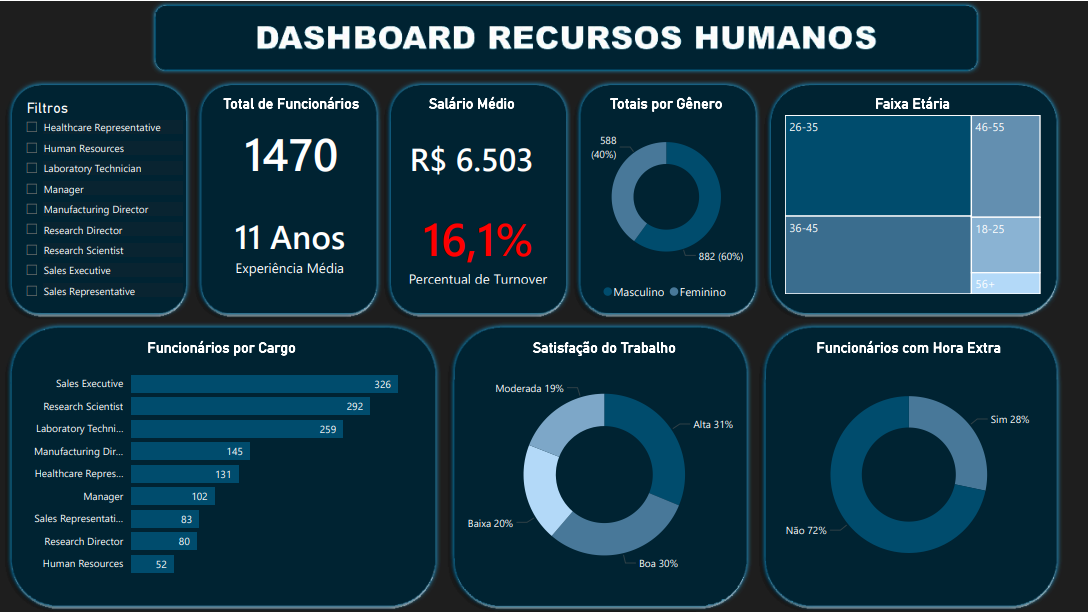

The page's visual inventory and layout, read from the dashboard file:
{"tool":"powerbi","page":{"name":"Page 1","canvas":[1280,720],"ordinal":0},"visuals":[{"type":"cardVisual","title":"Total de Funcionários","fields":{"Data":["Medidas.totalFuncionarios"]},"box":[241,110,203,113],"z":0},{"type":"cardVisual","title":"Experiência Média","fields":{"Data":["Medidas.experienciaMedia"]},"box":[241,224,200,125],"z":1000},{"type":"cardVisual","title":"Salário Médio","fields":{"Data":["Medidas.salarioMedio"]},"box":[444.4,110,221.1,125.6],"z":2000},{"type":"cardVisual","title":"Percentual de Turnover","fields":{"Data":["Medidas.porcentagemExFuncionarios"]},"box":[444,228,237,121],"z":3000},{"type":"clusteredBarChart","title":"Funcionários por Cargo","fields":{"Y":["Medidas.totalFuncionarios"],"Category":["DadosRH.JobRole"]},"box":[21,397,479,291],"z":4000},{"type":"donutChart","title":"Satisfação do Trabalho","fields":{"Category":["DadosRH.JobSatisfaction"],"Y":["CountNonNull(DadosRH.JobSatisfaction)"]},"box":[539,397,344,300],"z":5000},{"type":"donutChart","title":"Funcionários com Hora Extra","fields":{"Y":["Medidas.horaExtraSim","Medidas.horaExtraNao"]},"box":[910,397,319,300],"z":6000},{"type":"treemap","title":"Faixa Etária","fields":{"Values":["CountNonNull(DadosRH.FaixaEtaria)"],"Group":["DadosRH.FaixaEtaria"]},"box":[919,110,310,239],"z":7000},{"type":"donutChart","title":"Totais por Gênero","fields":{"Y":["Medidas.totalMasculino","Medidas.totalFeminino"]},"box":[673,110,222,250],"z":8000},{"type":"slicer","fields":{"Values":["DadosRH.JobRole"]},"box":[18,110,202,250],"z":9000}]}

Visuals, with their boxes in screenshot pixels (x1, y1, x2, y2), scaled from the page's 1280x720 canvas onto the 1088x612 screenshot:
"Total de Funcionários" cardVisual: 205,94,377,190
"Experiência Média" cardVisual: 205,190,375,297
"Salário Médio" cardVisual: 378,94,566,200
"Percentual de Turnover" cardVisual: 377,194,579,297
"Funcionários por Cargo" clusteredBarChart: 18,337,425,585
"Satisfação do Trabalho" donutChart: 458,337,751,592
"Funcionários com Hora Extra" donutChart: 774,337,1045,592
"Faixa Etária" treemap: 781,94,1045,297
"Totais por Gênero" donutChart: 572,94,761,306
slicer - DadosRH.JobRole: 15,94,187,306
